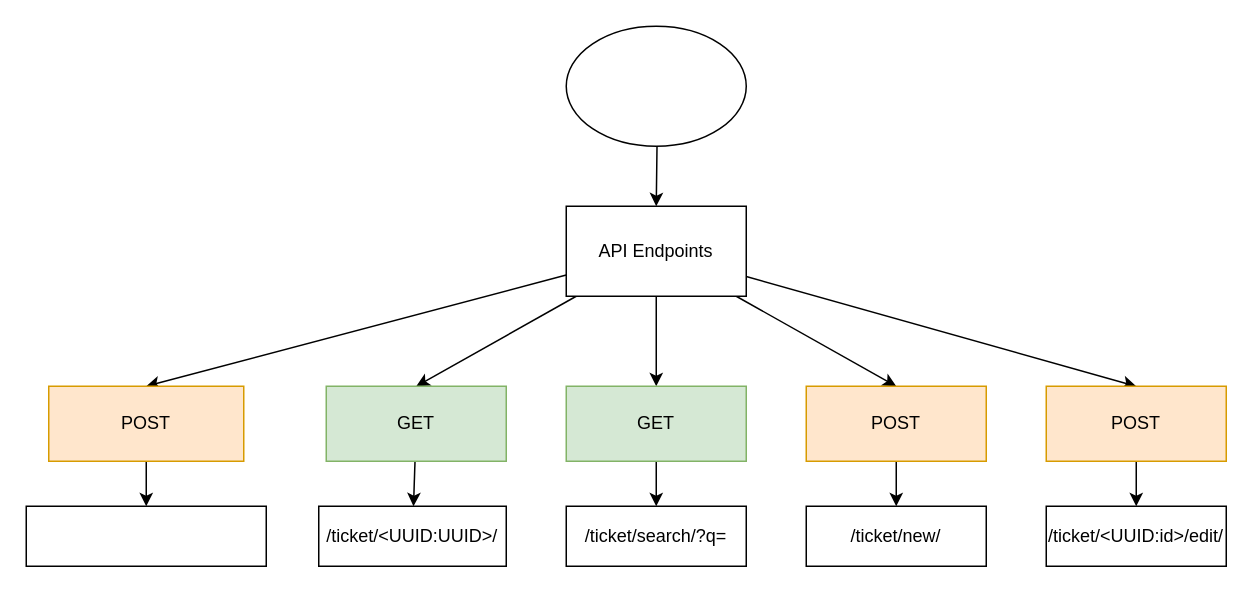
Some shapes in this 1253 by 593 pixel diagram are drawn without their labels. Each missing label, with the centre of its shape:
/ticket/<UUID:UUID>/reply/: the point at 145,535
User: the point at 655,85
